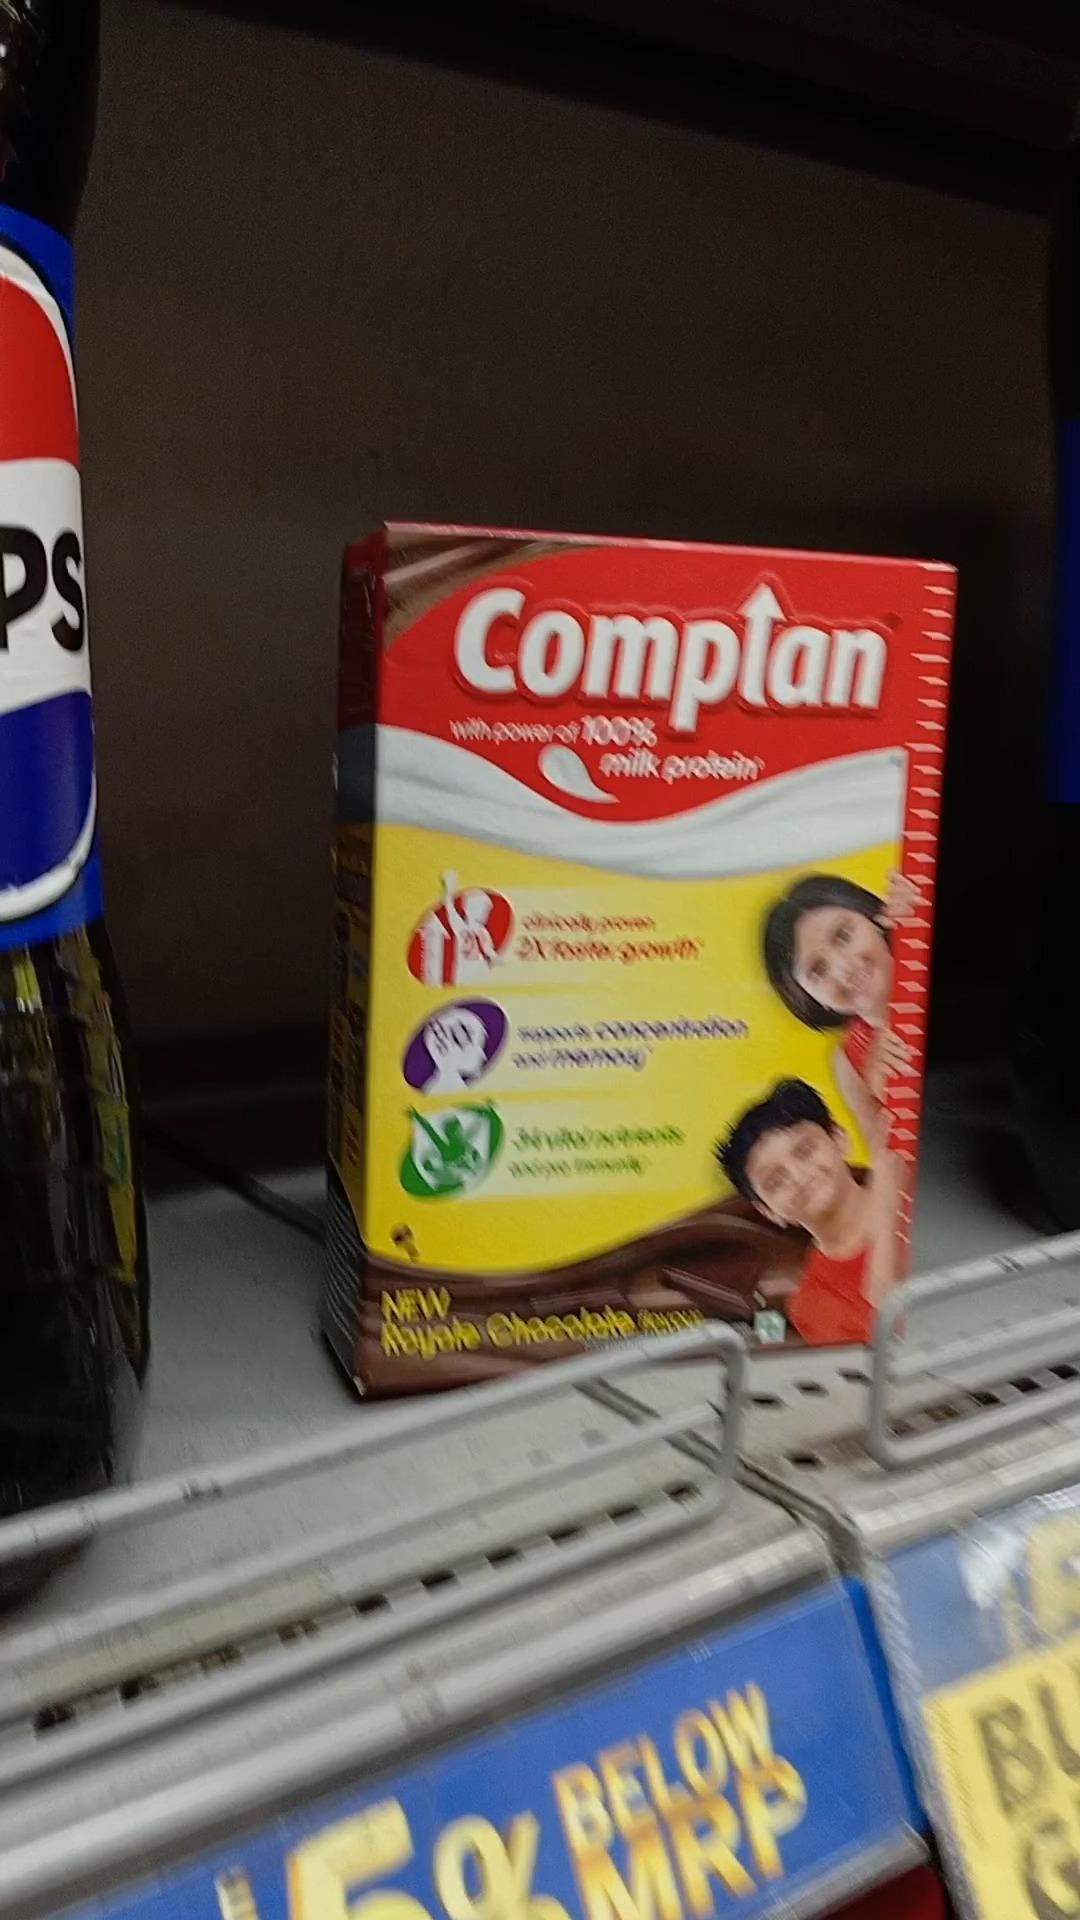COMPLAN_CHOCOLATE_200_GMS_PACK: (375, 550, 935, 1360)
